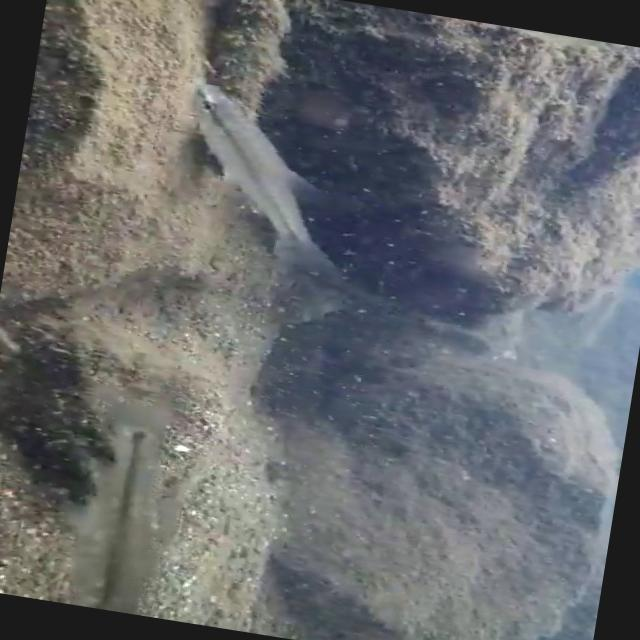Cakil Baligi: (153, 74, 385, 289), (39, 389, 209, 621)
